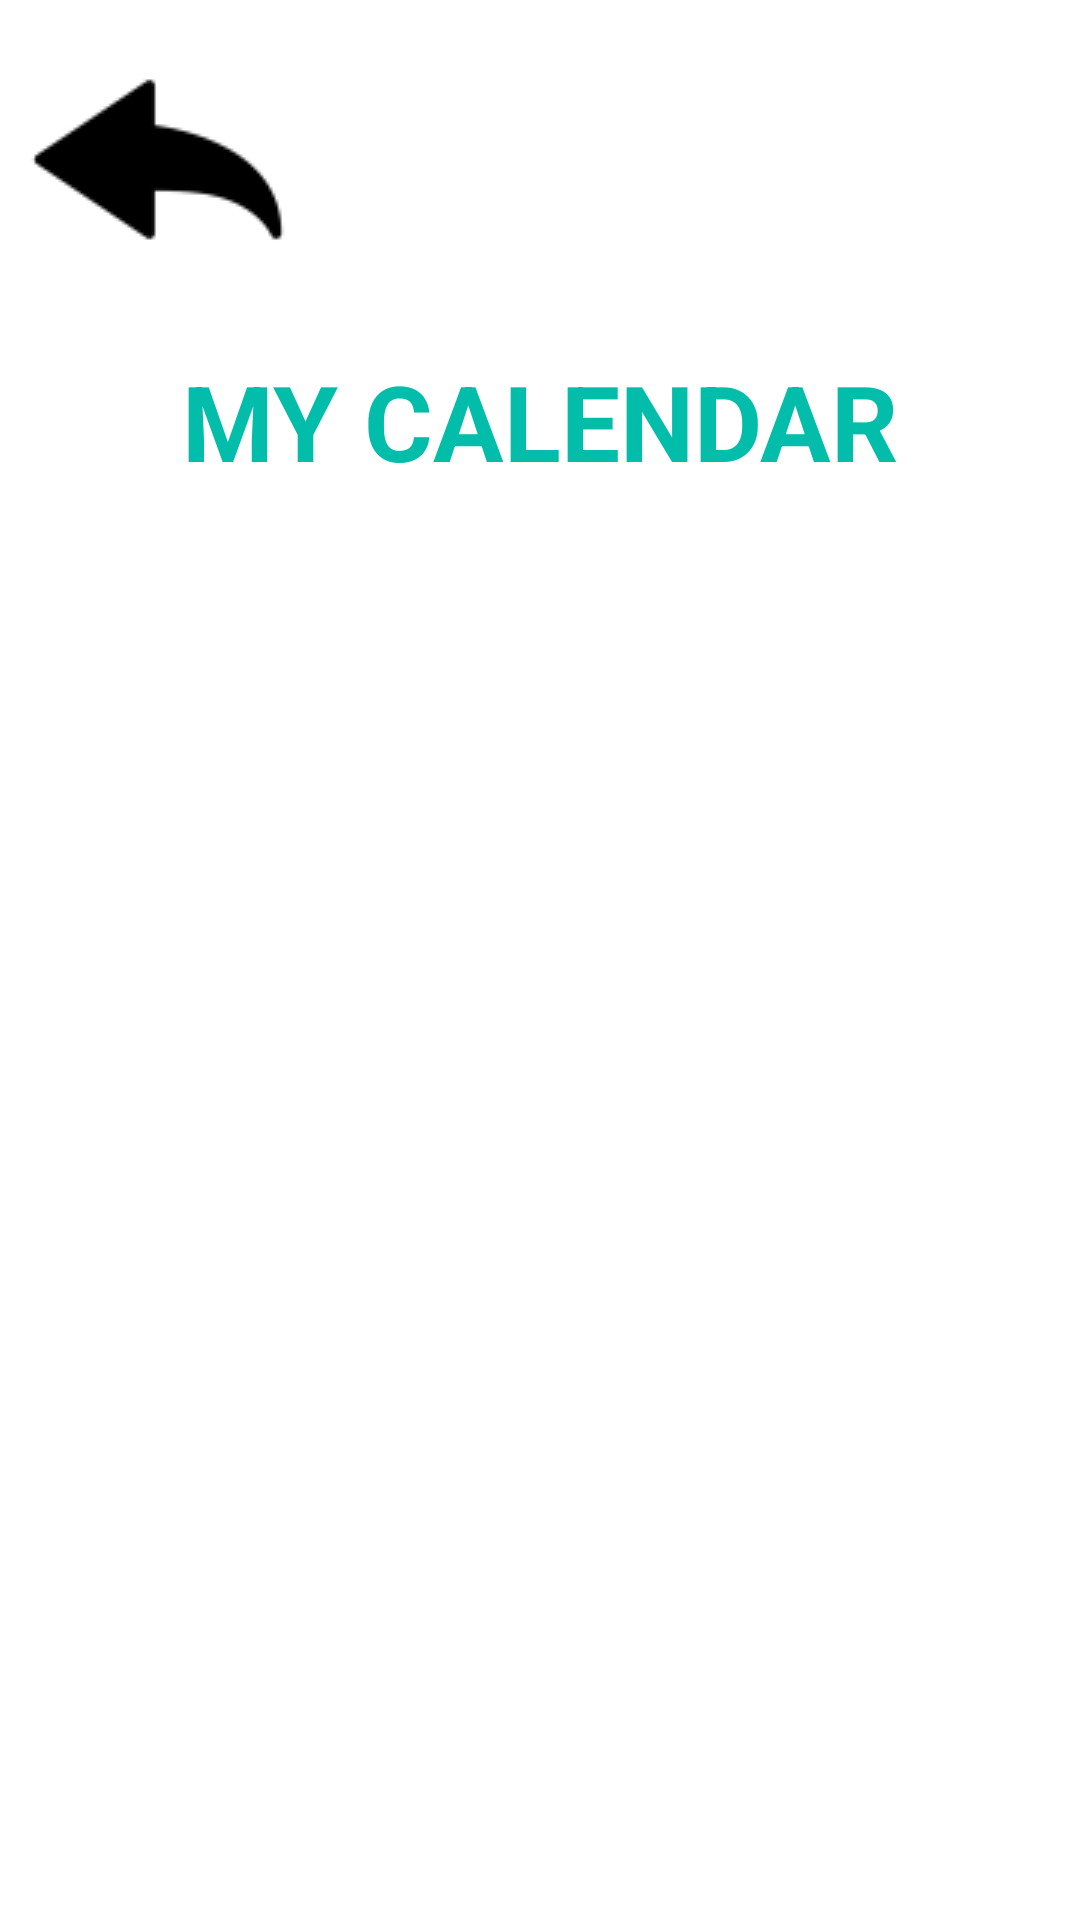

Screen size 1080 x 1920. Icon name, then its center in pixels as (x,y):
back arrow image: (158,159)
